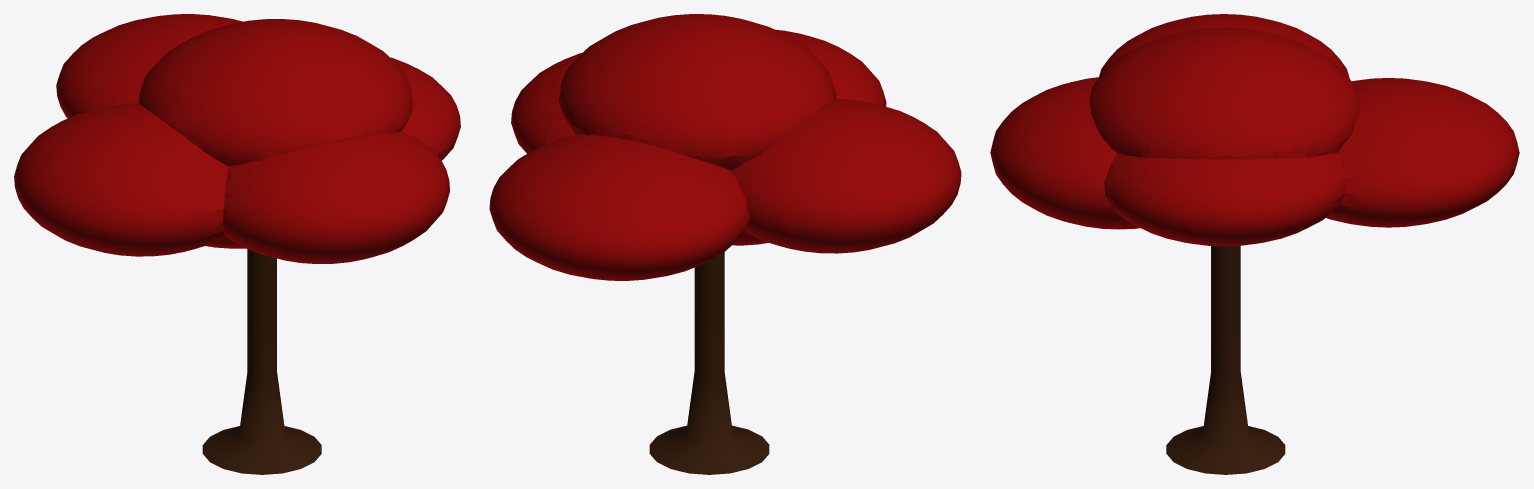
Rendered from tree2.FBX.
3 renders of one model, left to right at view 1: azimuth 30°, elevation 25°; view 2: azimuth 150°, elevation 25°; view 3: azimuth 270°, elevation 25°, orthographic.
Visible parts, largest first — view 1: tree1; view 2: tree1; view 3: tree1.
Part boxes in pixels (x1,y1,x2,y2): tree1: (14, 14, 460, 474); tree1: (489, 14, 961, 474); tree1: (990, 14, 1519, 474).
Size of the model in its own units: 48.19 by 45.8 by 53.53.
